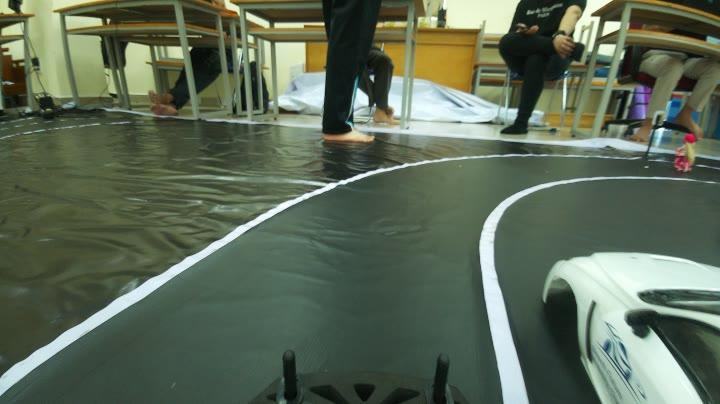car: (558, 224, 720, 404)
